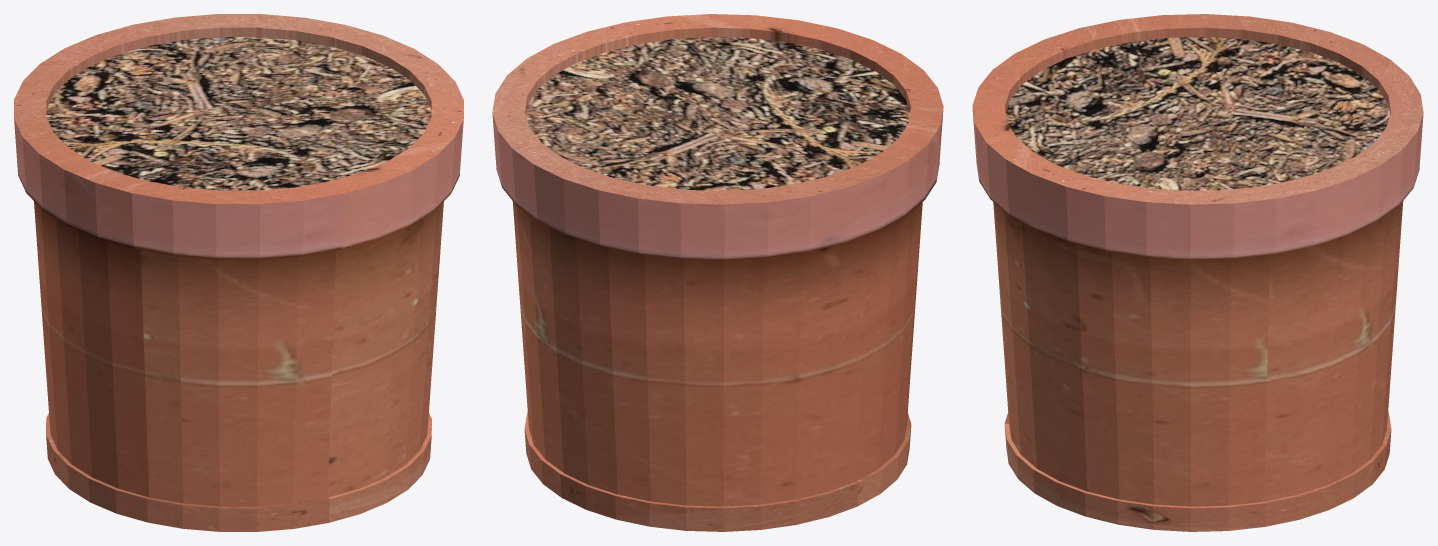
File: pot.obj
The picture shows the model from 3 angles, left to right: view 1: azimuth 30°, elevation 25°; view 2: azimuth 150°, elevation 25°; view 3: azimuth 270°, elevation 25°; orthographic projection.
Visible parts, largest first — view 1: Cylinder; view 2: Cylinder; view 3: Cylinder.
Boxes of the visible parts, <box> form: Cylinder: <box>14,14,463,531</box>; Cylinder: <box>492,14,943,531</box>; Cylinder: <box>972,14,1423,531</box>.
Size of the model in its own units: 0.3051 by 0.2549 by 0.3051.
